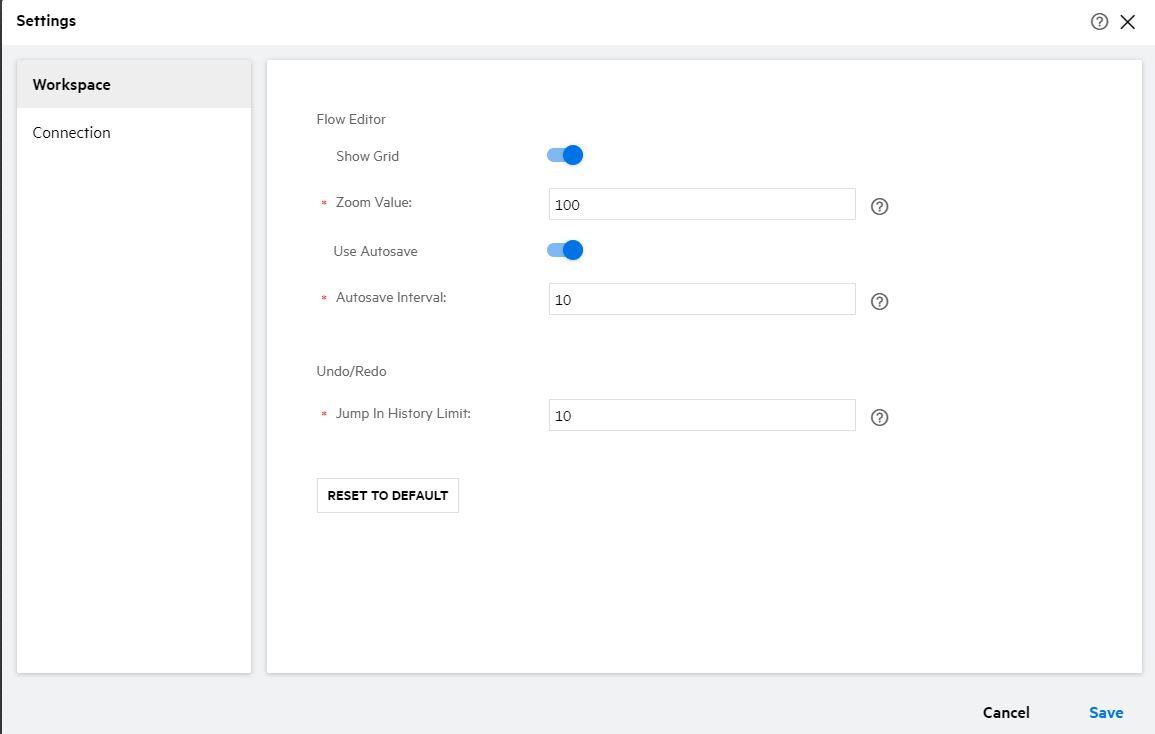button: (312, 475, 467, 523), (950, 695, 1046, 731), (1064, 690, 1140, 733)
checkbox: (526, 134, 602, 174), (535, 227, 602, 269)
textbox: (539, 274, 864, 326), (539, 389, 861, 438), (531, 184, 861, 221)
